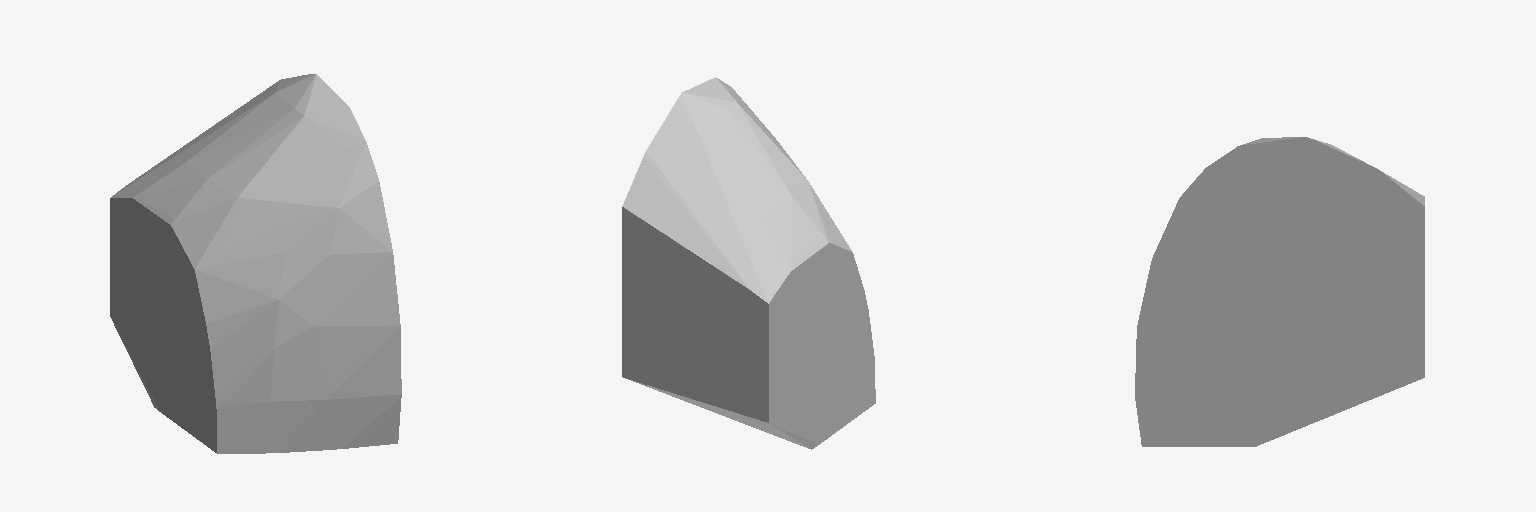
The model's file is phantom-elastrat_collision_571.obj.
The picture shows the model from 3 angles: view 1: azimuth 30°, elevation 25°; view 2: azimuth 150°, elevation 25°; view 3: azimuth 270°, elevation 25°; orthographic projection.
Size of the model in its own units: 0.0026 by 0.0053 by 0.0045.